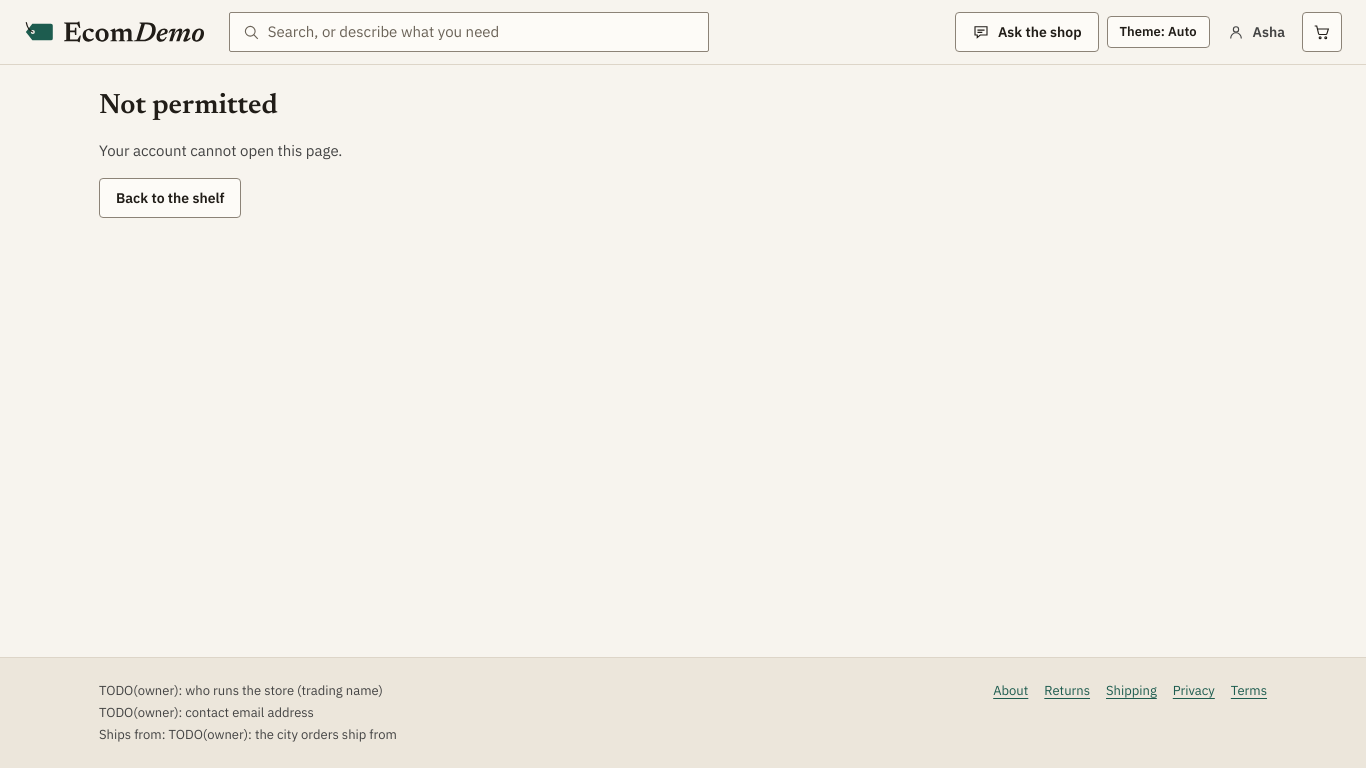
it: guards › give a page its own title back when the person leaves "Not permitted"
The image size is (1366, 768).
Expected: the heading "Not permitted" is shown, [99,89,278,123]
Click the link "Back to the shelf": (170, 198) [99,178,242,218]
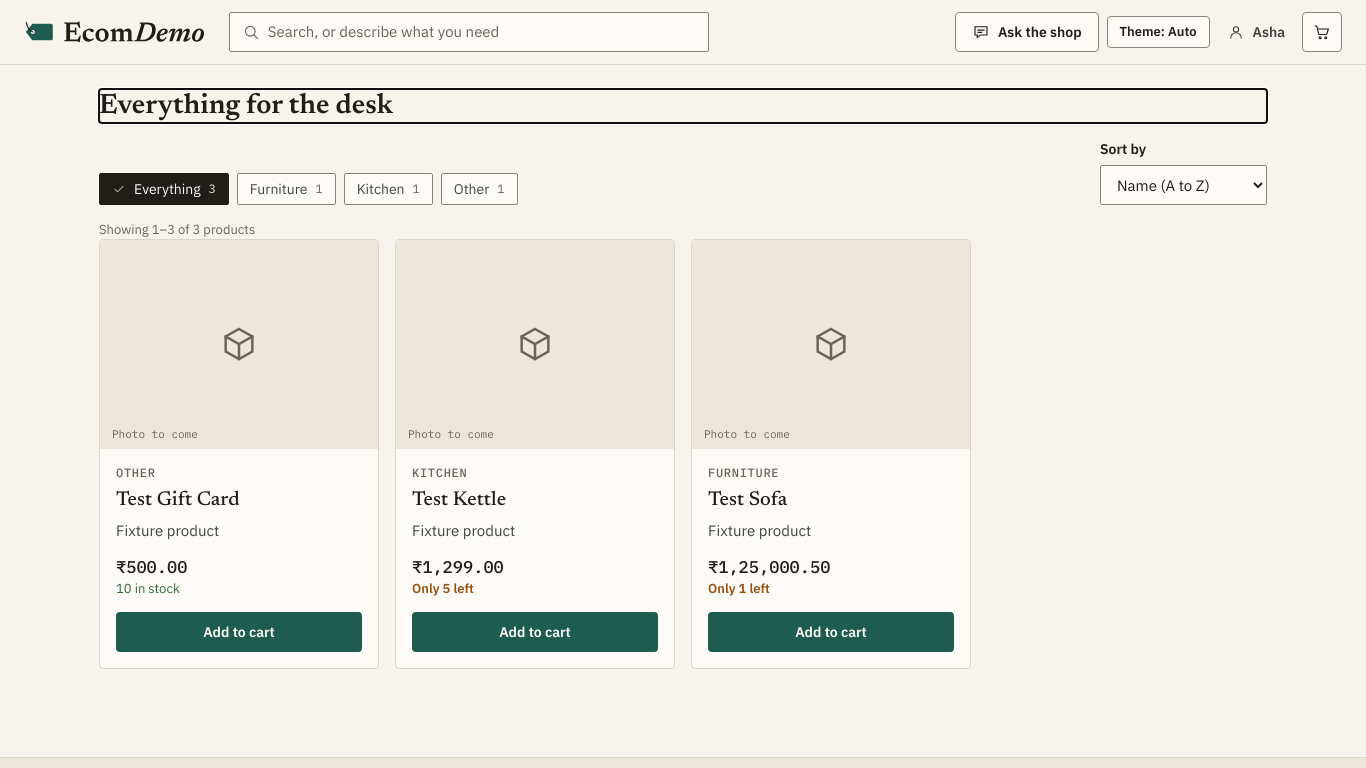
Now the heading "Everything for the desk" is shown, box [99,92,393,120]
